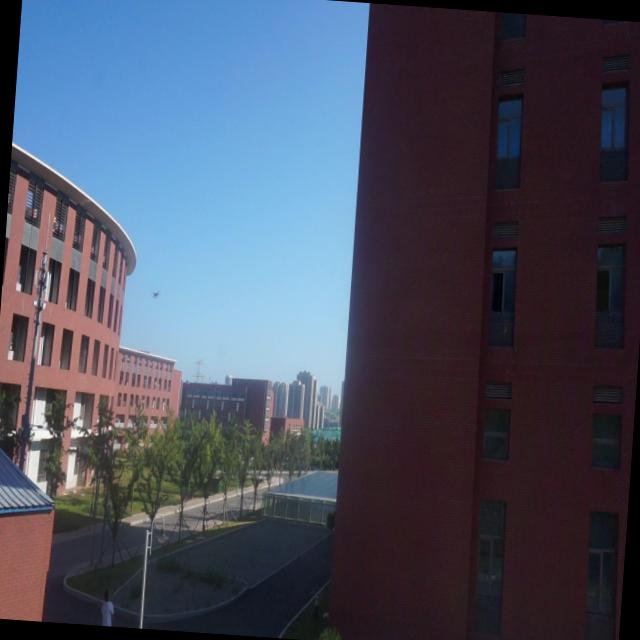drone: (148, 286, 162, 302)
